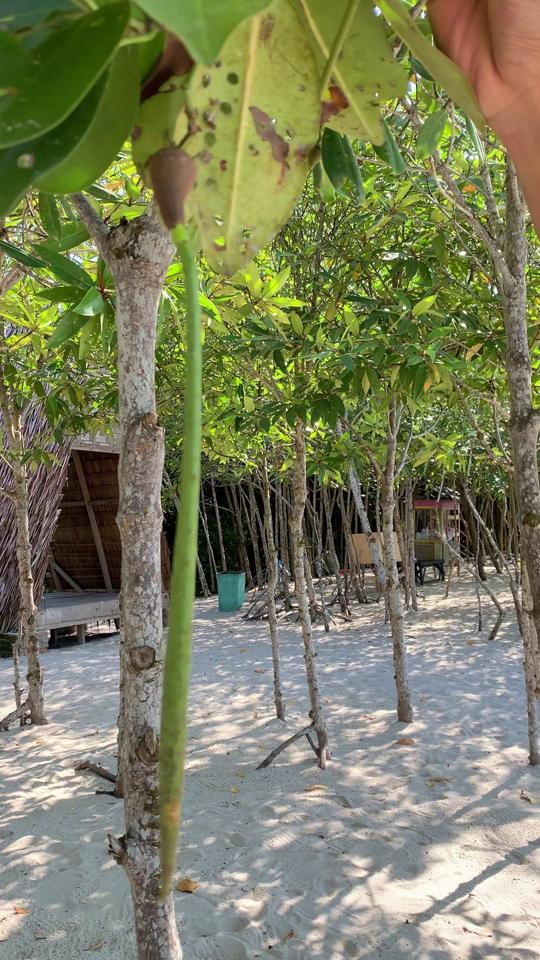setengah matang: (137, 132, 210, 904)
